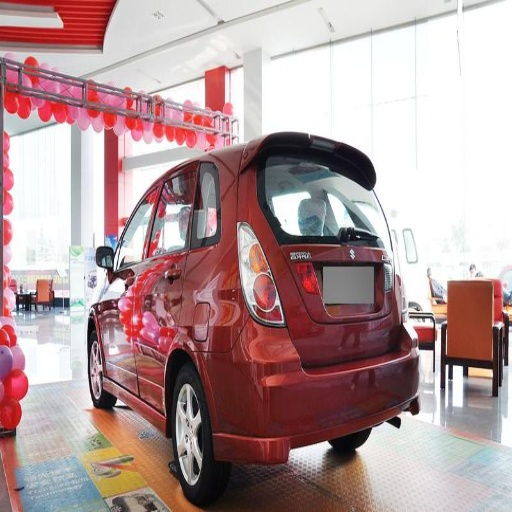back_bumper: (214, 318, 419, 462)
back_glass: (259, 142, 382, 239)
back_left_door: (137, 280, 163, 382)
back_left_light: (238, 234, 287, 325)
tailgate: (261, 240, 391, 352)
trunk: (291, 240, 395, 264)
